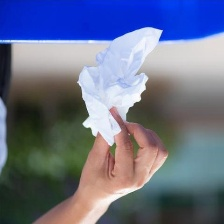plastic_box: (0, 0, 224, 49)
tissue: (71, 22, 168, 149)
